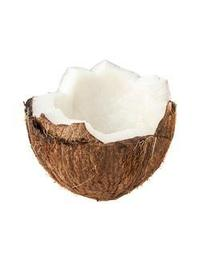coconut: (23, 58, 177, 201)
